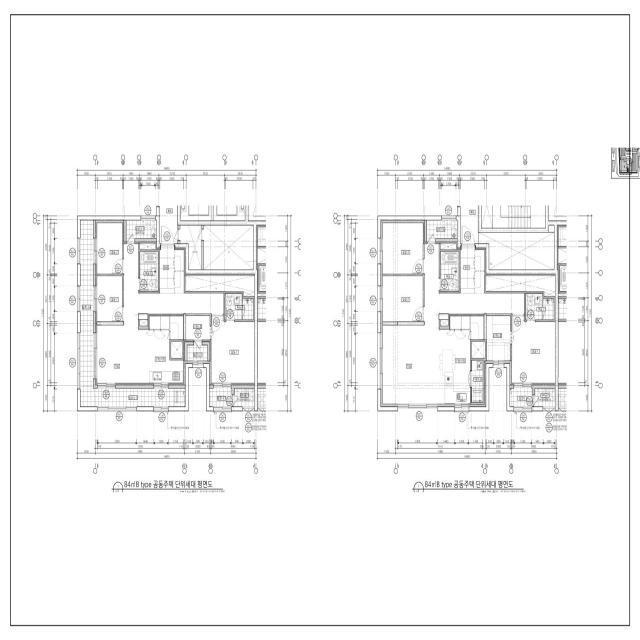space_balconi: (80, 220, 185, 407), (126, 220, 156, 241), (209, 387, 232, 407), (510, 387, 532, 407), (187, 342, 207, 363)
space_bedroom: (512, 316, 555, 383), (211, 316, 254, 383), (383, 223, 423, 274), (383, 276, 423, 322), (95, 276, 123, 322), (97, 223, 122, 274)
space_dressroom: (486, 316, 511, 363), (186, 316, 210, 340)
space_elevator_hall: (160, 207, 254, 270), (460, 208, 554, 270)
space_front: (460, 247, 486, 293), (160, 246, 184, 293)
space_kitchen: (138, 316, 185, 385), (439, 316, 470, 407)
space_living_room: (381, 244, 524, 407), (95, 242, 224, 385)
space_multipurpose_space: (472, 360, 483, 403)
space_other: (185, 276, 255, 297), (486, 276, 555, 297), (233, 388, 254, 407), (534, 389, 555, 407), (471, 316, 484, 340), (170, 316, 183, 340), (472, 342, 485, 358), (171, 342, 182, 358), (140, 242, 156, 250), (440, 244, 456, 250), (140, 320, 148, 326)
space_outdoor_room: (427, 220, 457, 241)
space_staircase: (481, 205, 546, 228)
space_toilet: (440, 251, 459, 291), (526, 293, 554, 320), (225, 293, 253, 320), (140, 251, 158, 291)
